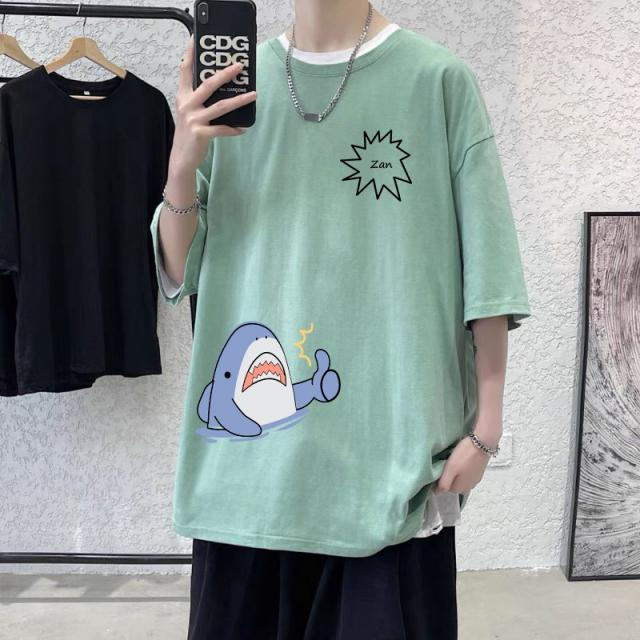Shirt: (150, 26, 534, 554), (1, 51, 177, 383)
